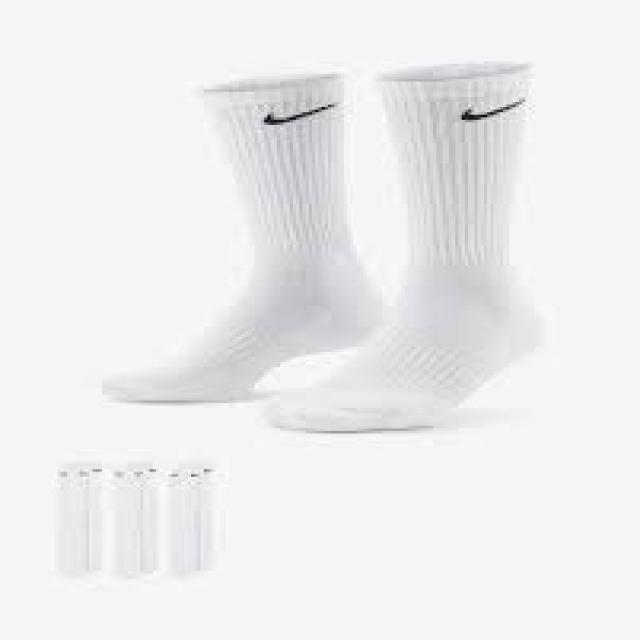sock: (261, 59, 538, 431), (99, 66, 382, 403)
